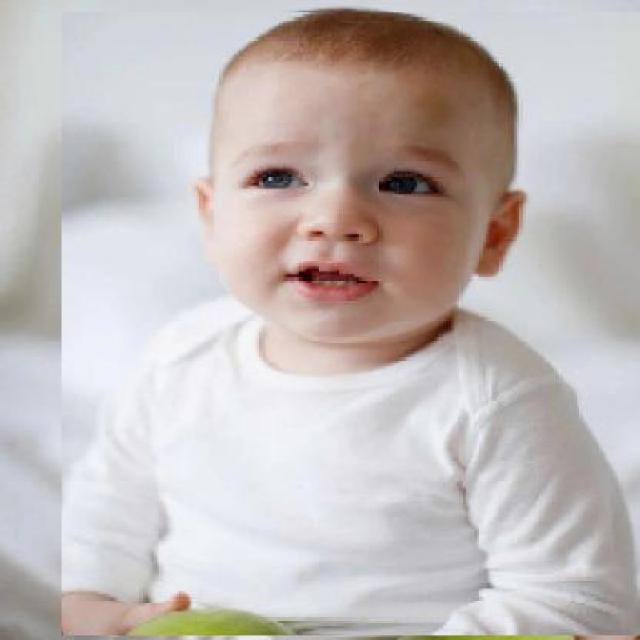child: (60, 12, 640, 637)
